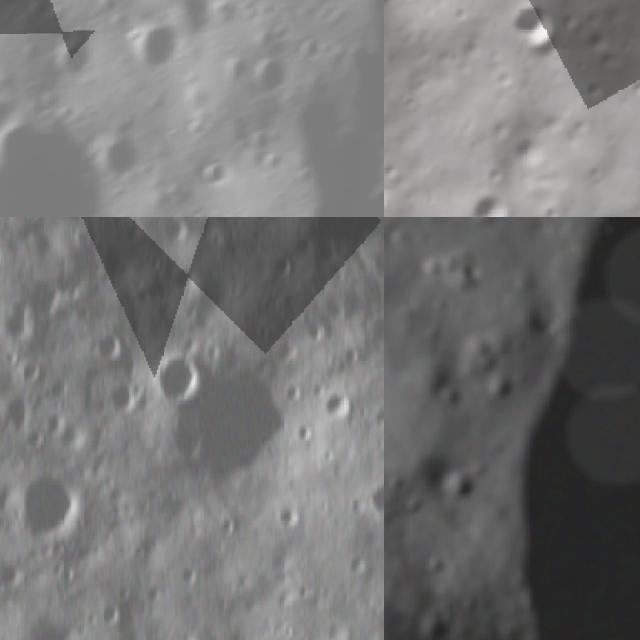crater: (158, 358, 312, 488), (0, 116, 99, 217), (13, 465, 88, 544), (496, 0, 572, 57), (125, 17, 191, 78), (92, 133, 157, 190), (500, 122, 561, 180), (429, 460, 484, 515), (452, 176, 524, 217), (44, 34, 98, 88), (152, 347, 203, 403), (18, 270, 66, 320), (243, 53, 295, 99), (96, 377, 142, 422), (194, 154, 242, 196), (85, 322, 126, 362), (407, 606, 454, 640), (480, 371, 516, 414), (0, 304, 34, 348), (315, 387, 353, 425), (0, 85, 21, 147), (165, 263, 201, 299), (0, 391, 30, 428), (415, 254, 447, 285), (265, 500, 298, 530), (437, 384, 465, 417), (363, 473, 384, 516), (8, 354, 40, 382), (158, 217, 184, 249), (363, 308, 384, 345), (0, 559, 24, 590), (42, 409, 66, 435), (97, 600, 117, 630), (216, 511, 238, 534), (371, 505, 384, 536), (460, 596, 480, 616)
